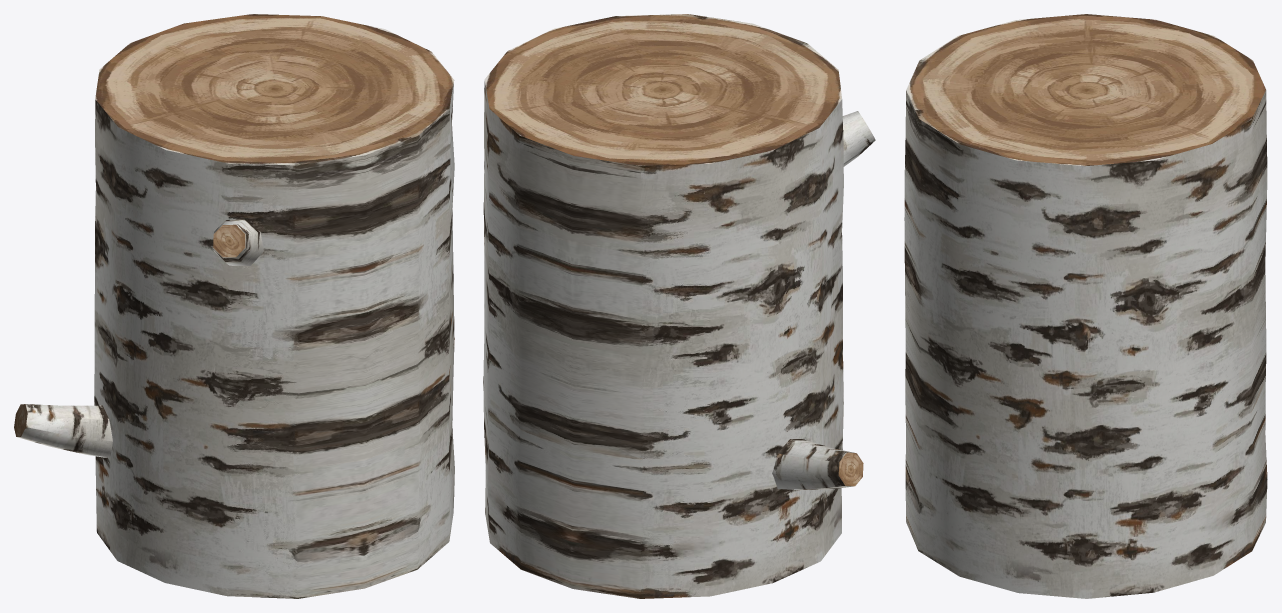
Rendered from birch_log_01.fbx.
3 renders of one model, left to right at view 1: azimuth 30°, elevation 25°; view 2: azimuth 150°, elevation 25°; view 3: azimuth 270°, elevation 25°, orthographic.
Visible parts, largest first — view 1: SM_Log_002; view 2: SM_Log_002; view 3: SM_Log_002.
Part boxes in pixels (x1,y1,x2,y2): SM_Log_002: (14, 14, 454, 598); SM_Log_002: (483, 14, 875, 598); SM_Log_002: (904, 14, 1267, 598).
Bounding box in the file's own units: 3.34 × 3.6 × 2.74.
Materials: 2 (2 with a texture image).
